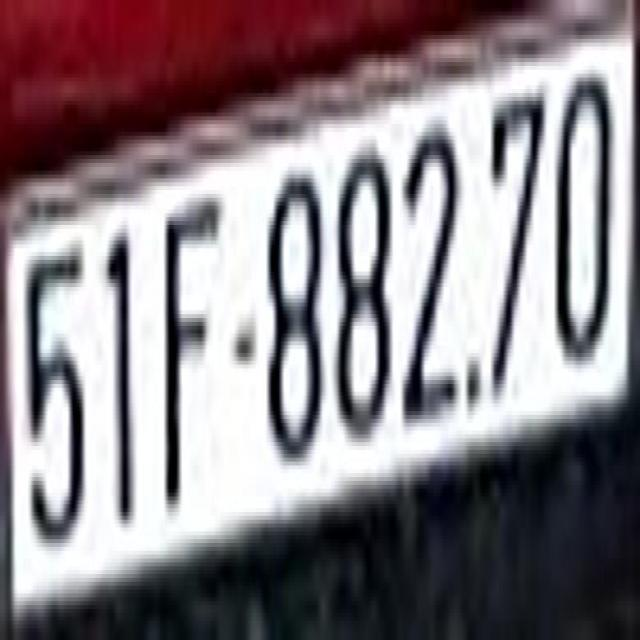0: (554, 62, 609, 384)
1: (109, 217, 136, 547)
2: (401, 124, 461, 423)
5: (27, 240, 86, 551)
7: (486, 90, 544, 403)
8: (266, 171, 322, 477), (338, 132, 391, 454)
F: (163, 194, 222, 508)
